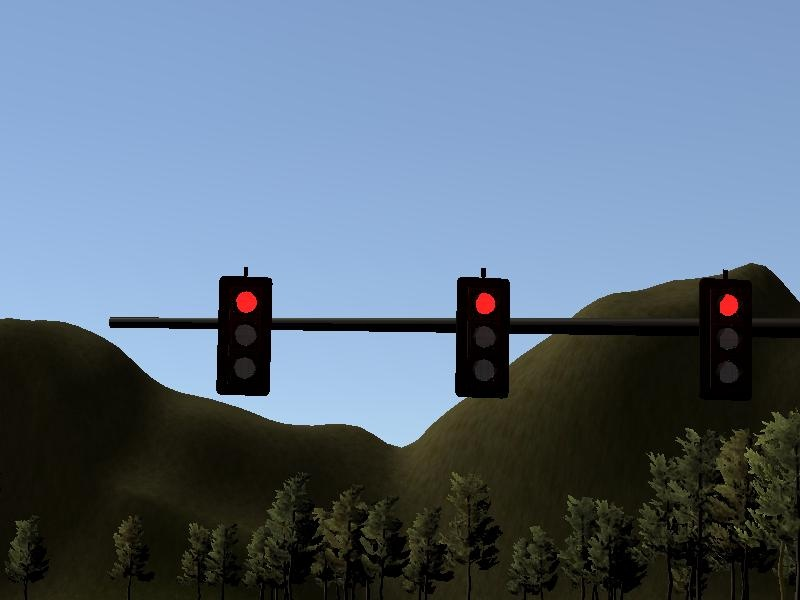traffic_light_red: (186, 274, 768, 403)
